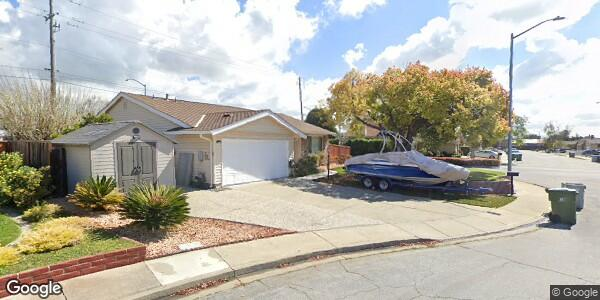Steel_Pole: (505, 12, 570, 196)
Wood_Pole: (41, 1, 66, 126), (291, 73, 310, 122)
